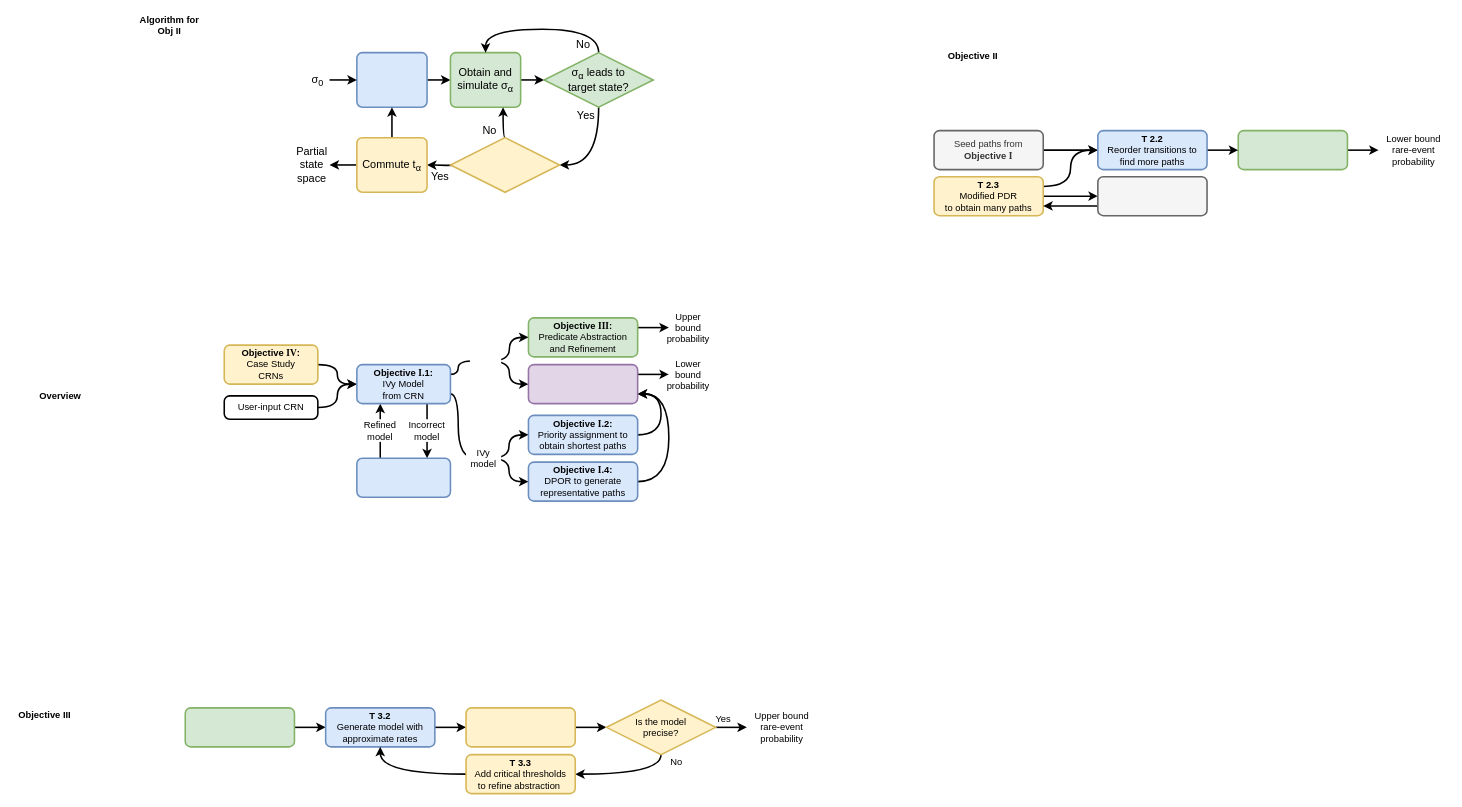
The diagram is 1462 pixels wide and 807 high, and some of its shapes have lost their labels. The centre of each missing label's shape, as x and y in pixels:
"Find En( ρ 0 )" belongs at pixel 391 79.
"Objective I .3: Debug & Refine IVy Model" belongs at pixel 403 477.
"Objective II : Concurrency to build partial state space" belongs at pixel 582 383.
"PRISM model" belongs at pixel 485 360.
"T 1.4 DPOR to filter representative paths" belongs at pixel 1152 196.
"T 2.1 Recursively expand each seed path" belongs at pixel 1292 149.
"T 3.1 Obtain non-uniform thresholds" belongs at pixel 239 727.
"T 3.3 Model checking on abstract model" belongs at pixel 520 727.
"t α is independent?" belongs at pixel 504 164.
